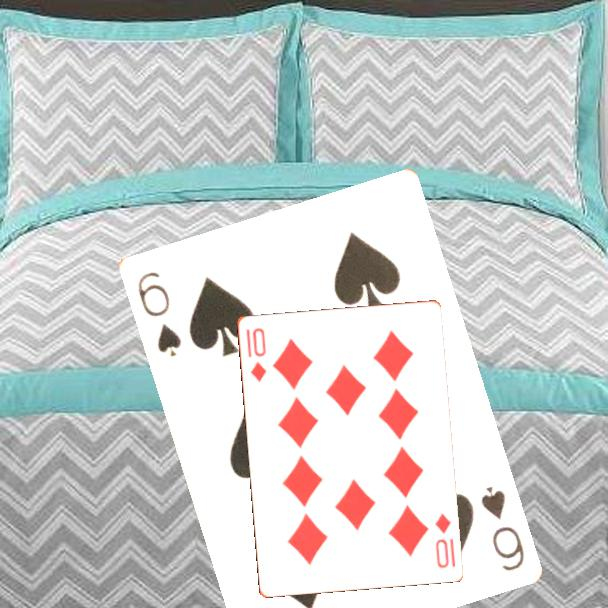d10: (431, 509, 458, 571), (246, 324, 269, 384)
s06: (476, 482, 527, 574), (133, 268, 184, 359)
